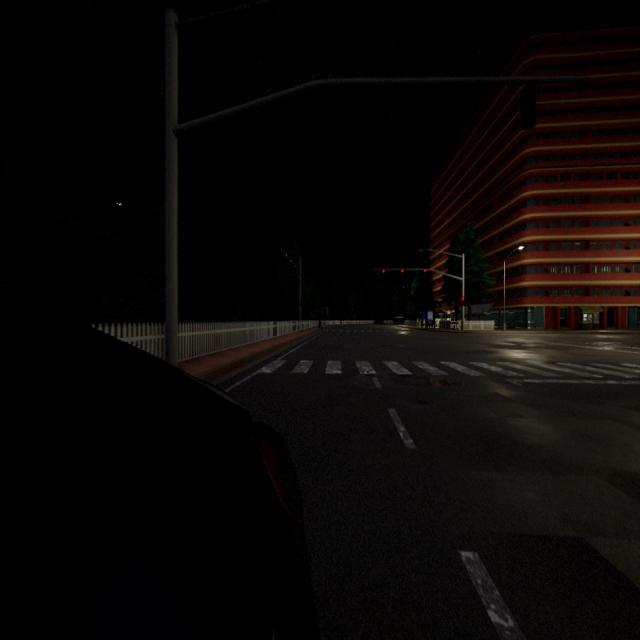Vehicle: (0, 323, 318, 637)
traffic_light: (400, 268, 404, 277), (423, 268, 427, 276), (461, 297, 465, 305), (382, 269, 385, 275), (290, 258, 292, 264), (286, 253, 288, 257), (294, 264, 296, 268)
